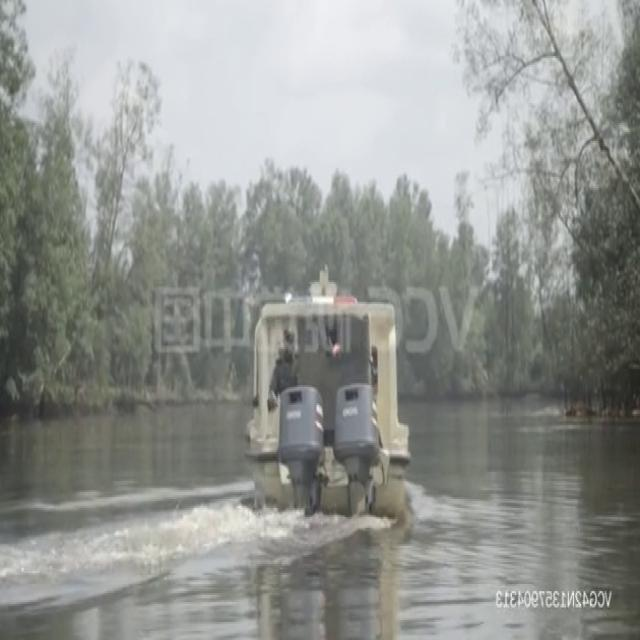houseboat: (240, 272, 415, 519)
